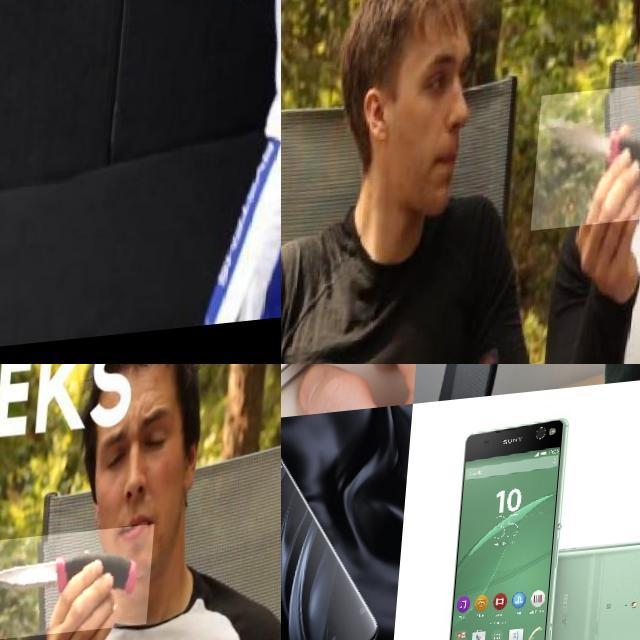-: (0, 534, 158, 640), (536, 88, 640, 237), (151, 0, 254, 43)
